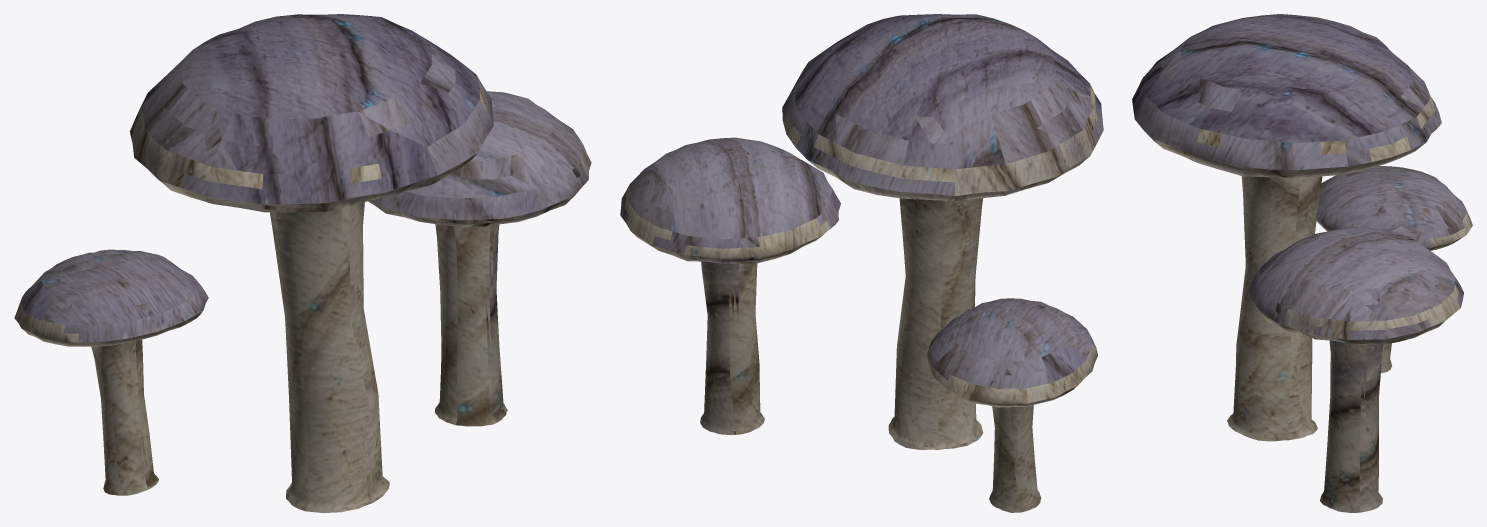
File: giant-mushrooms-v01-photo.glb
3 renders of one model, left to right at view 1: azimuth 30°, elevation 25°; view 2: azimuth 150°, elevation 25°; view 3: azimuth 270°, elevation 25°, orthographic. The views are drawn at different scales.
Parts seen in each view (by area): view 1: giant-mushrooms; view 2: giant-mushrooms; view 3: giant-mushrooms.
Part boxes in pixels (x1,y1,x2,y2): giant-mushrooms: (14, 14, 591, 512); giant-mushrooms: (620, 14, 1103, 512); giant-mushrooms: (1132, 14, 1472, 512).
Bounding box in the file's own units: 3.21 × 2.65 × 2.11.
Materials: 1 (1 with a texture image).
